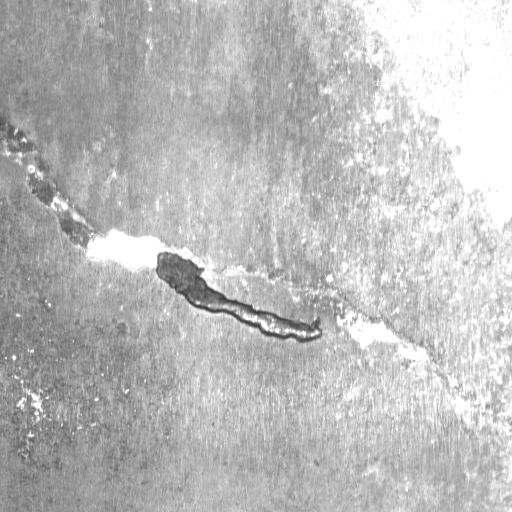qiaopi: (1, 119, 329, 343)
